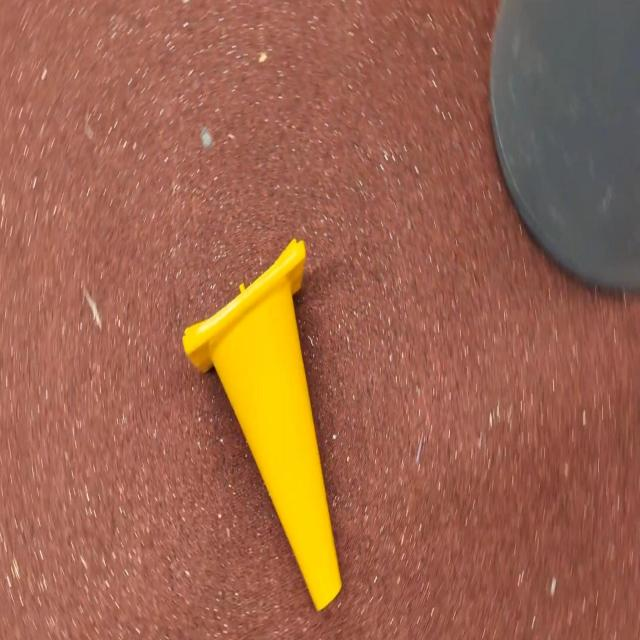frc_cone: (182, 237, 344, 609)
